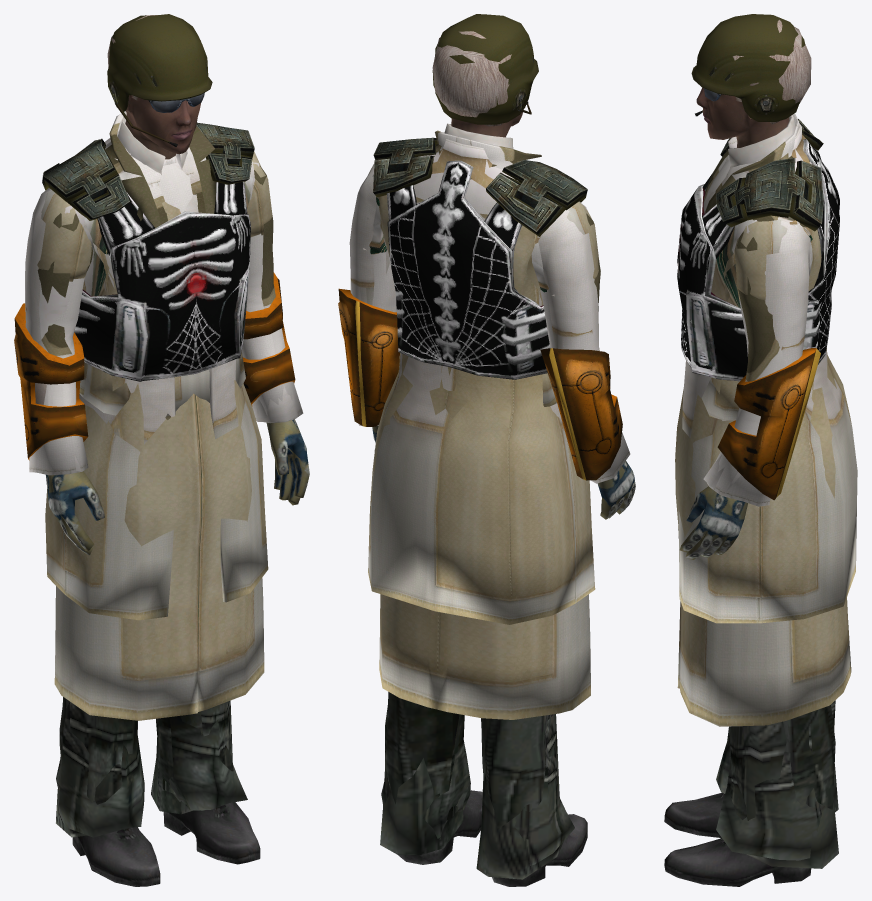
Rendered from m_Average_Studio.glb.
The picture shows the model from 3 angles, left to right: view 1: azimuth 30°, elevation 25°; view 2: azimuth 150°, elevation 25°; view 3: azimuth 270°, elevation 25°; orthographic projection.
Visible parts, largest first — view 1: Torso4, Torso3, TorsoArmour2, Legs1, ArmPads2, Torso2, Helmet1, Shoes1, ShoulderPads1, Torso1, Hands2, Legs4 (+2 smaller); view 2: Torso3, Torso4, TorsoArmour2, ArmPads2, Legs2, Legs4, ShoulderPads1, Helmet1, Legs1, Hair1, Torso2, Shoes1 (+3 smaller); view 3: Torso3, Torso4, TorsoArmour2, Helmet1, ArmPads2, Legs1, Torso2, ShoulderPads1, Shoes1, Legs4, Legs2, Hands2 (+4 smaller).
Boxes of the visible parts, <box> form: Torso4: <box>29,120,303,720</box>; Torso3: <box>25,114,268,620</box>; TorsoArmour2: <box>74,181,250,381</box>; Legs1: <box>56,699,247,837</box>; ArmPads2: <box>14,272,295,460</box>; Torso2: <box>37,111,297,471</box>; Helmet1: <box>107,14,212,146</box>; Shoes1: <box>72,802,260,886</box>; ShoulderPads1: <box>42,122,254,220</box>; Torso1: <box>37,151,272,356</box>; Hands2: <box>46,419,309,555</box>; Legs4: <box>56,700,233,837</box>; Torso3: <box>349,130,598,624</box>; Torso4: <box>358,139,630,719</box>; TorsoArmour2: <box>386,160,550,379</box>; ArmPads2: <box>338,288,622,480</box>; Legs2: <box>385,692,553,839</box>; Legs4: <box>380,707,563,879</box>; ShoulderPads1: <box>373,137,587,236</box>; Helmet1: <box>432,14,538,124</box>; Legs1: <box>381,714,574,865</box>; Hair1: <box>432,31,511,126</box>; Torso2: <box>350,123,600,406</box>; Shoes1: <box>398,790,587,886</box>; Torso3: <box>678,113,857,623</box>; Torso4: <box>675,123,851,726</box>; TorsoArmour2: <box>677,139,839,381</box>; Helmet1: <box>691,14,805,121</box>; ArmPads2: <box>717,348,820,500</box>; Legs1: <box>716,720,821,860</box>; Torso2: <box>701,115,816,493</box>; ShoulderPads1: <box>716,119,823,231</box>; Shoes1: <box>664,793,811,886</box>; Legs4: <box>729,721,838,868</box>; Legs2: <box>784,700,835,809</box>; Hands2: <box>679,486,747,559</box>.
Bounding box in the file's own units: 33.91 × 103 × 21.84.
Materials: 12 (12 with a texture image).
